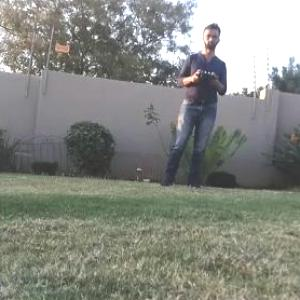follow: (153, 16, 231, 191)
